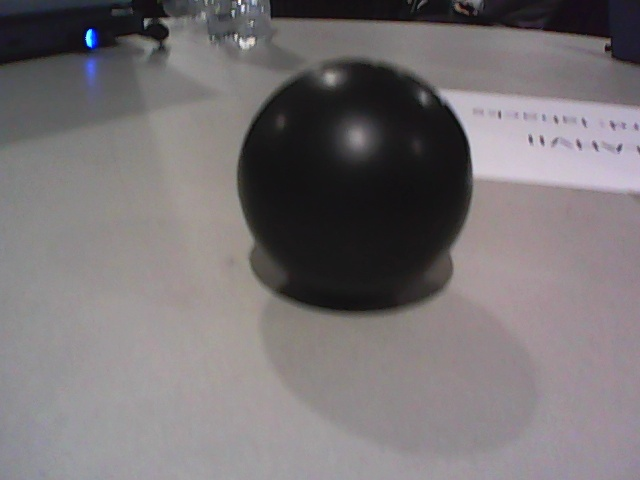ball: (237, 61, 473, 291)
